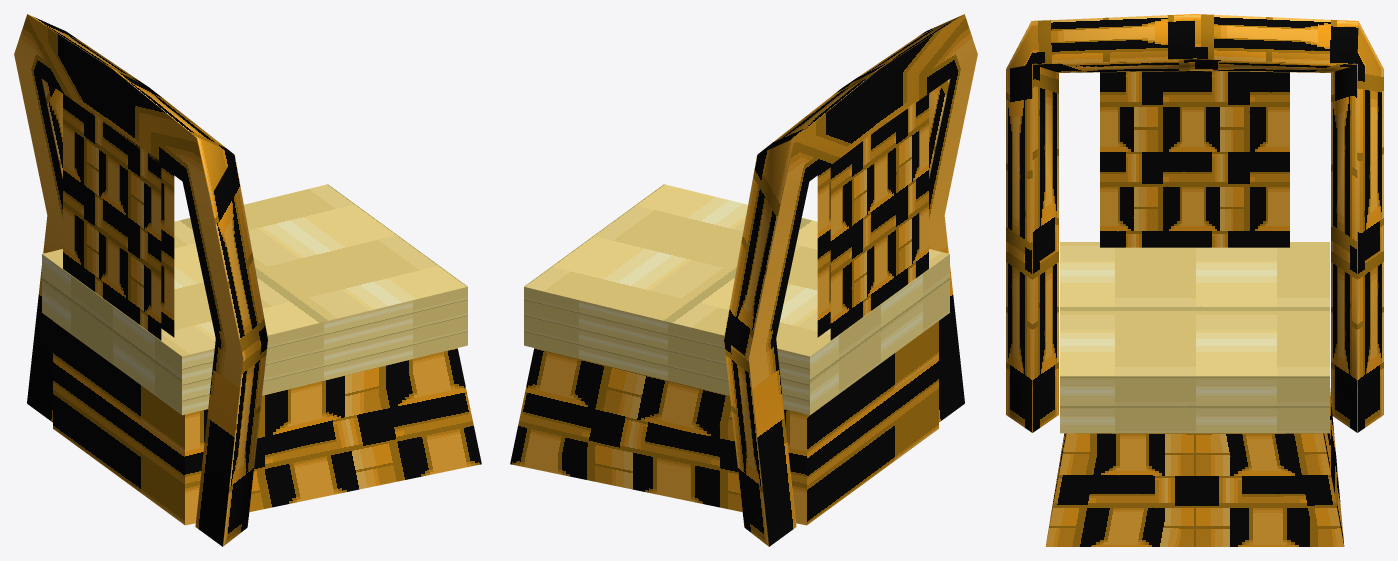
File: 3561kg_07_isu.gltf
3 renders of one model, left to right at view 1: azimuth 30°, elevation 25°; view 2: azimuth 150°, elevation 25°; view 3: azimuth 270°, elevation 25°, orthographic. The views are drawn at different scales.
Parts seen in each view (by area): view 1: 3561kg_07_isu; view 2: 3561kg_07_isu; view 3: 3561kg_07_isu.
Part boxes in pixels (x1,y1,x2,y2): 3561kg_07_isu: (14, 14, 481, 546); 3561kg_07_isu: (510, 14, 977, 546); 3561kg_07_isu: (1006, 14, 1383, 546).
Size of the model in its own units: 0.7754 by 1.04 by 0.8999.
Materials: 2 (2 with a texture image).
